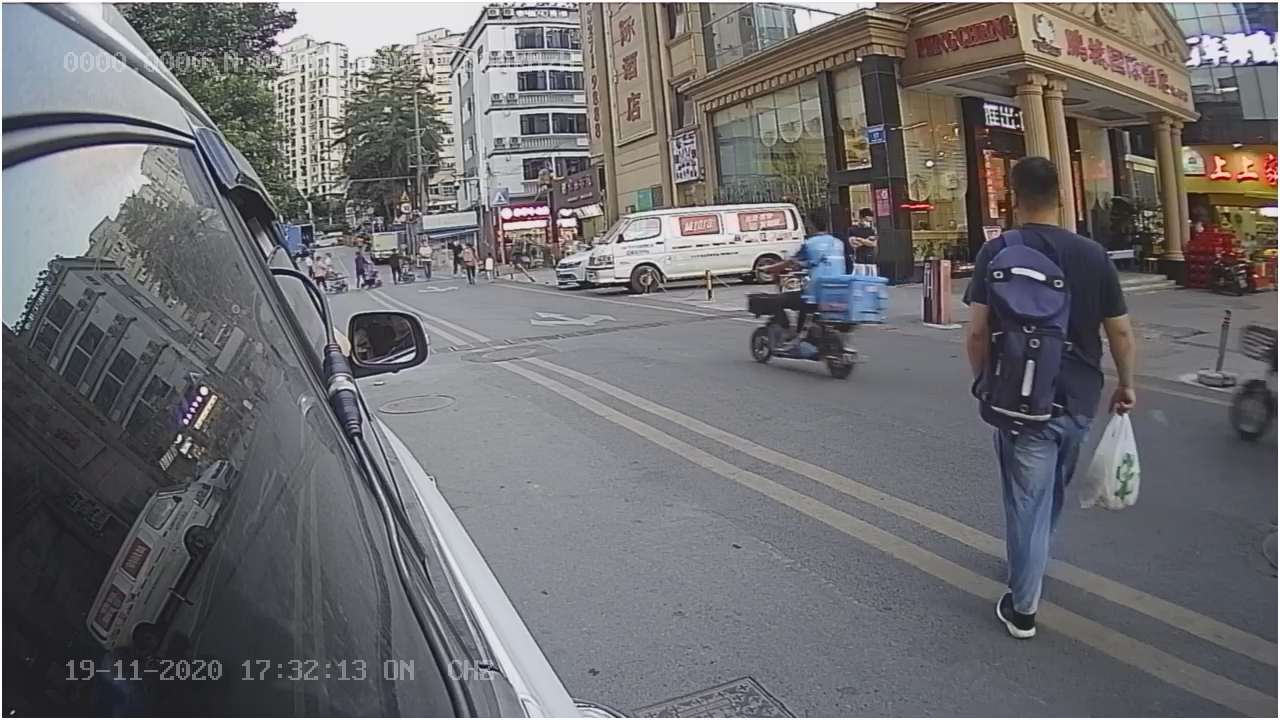person: (959, 159, 1098, 592)
